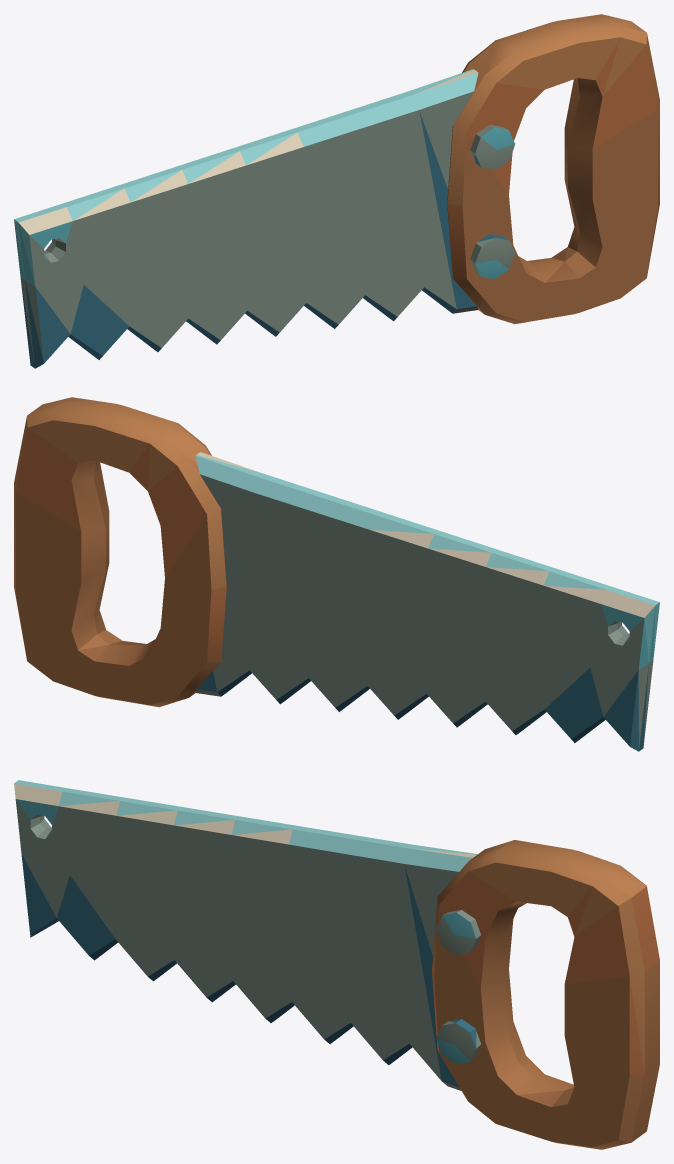
File: itch_kaykit_rpg_tools_saw.glb
3 renders of one model, top to bottom at view 1: azimuth 30°, elevation 25°; view 2: azimuth 150°, elevation 25°; view 3: azimuth 330°, elevation 25°, orthographic.
Visible parts, largest first — view 1: saw; view 2: saw; view 3: saw.
Part boxes in pixels (x1,y1,x2,y2): saw: (14,14,659,368); saw: (14,397,659,751); saw: (14,780,659,1149).
Bounding box in the file's own units: 1.18 × 0.4998 × 0.1129.
